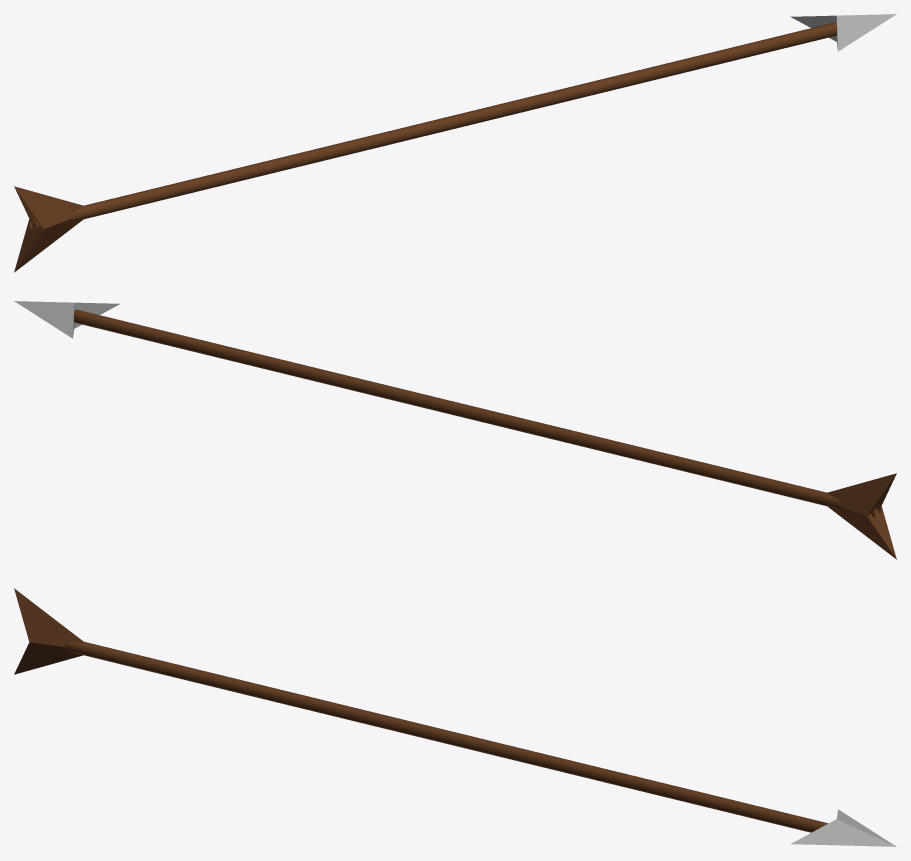
The model's file is EnemyArcherArrow.fbx.
3 views of the same model, one above another, from view 1: azimuth 30°, elevation 25°; view 2: azimuth 150°, elevation 25°; view 3: azimuth 330°, elevation 25° (orthographic).
Visible parts, largest first — view 1: Arrow; view 2: Arrow; view 3: Arrow.
Part boxes in pixels (<box>): Arrow: <box>14,14,896,272</box>; Arrow: <box>14,301,896,559</box>; Arrow: <box>14,588,896,846</box>.
Size of the model in its own units: 135 by 12.69 by 12.69.
